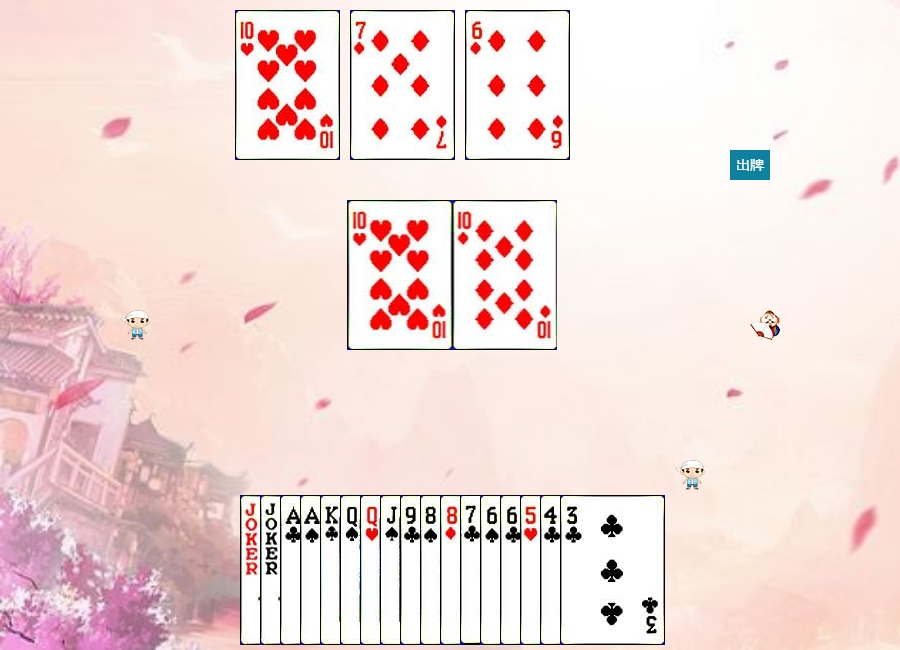10~1: (453, 200, 558, 350)
10~3: (235, 10, 340, 160), (348, 200, 453, 350)
11~4: (380, 495, 485, 645)
12~3: (360, 495, 465, 645)
12~4: (340, 495, 445, 645)
13~2: (320, 495, 425, 645)
14~2: (280, 495, 385, 645)
14~4: (300, 495, 405, 645)
17~3: (260, 495, 365, 645)
18~4: (240, 495, 345, 645)
3~2: (560, 495, 665, 645)
4~2: (540, 495, 645, 645)
5~3: (520, 495, 625, 645)
6~1: (465, 10, 570, 160)
6~2: (500, 495, 605, 645)
6~4: (480, 495, 585, 645)
7~1: (350, 10, 455, 160)
7~2: (460, 495, 565, 645)
8~1: (440, 495, 545, 645)
8~4: (420, 495, 525, 645)
9~2: (400, 495, 505, 645)
